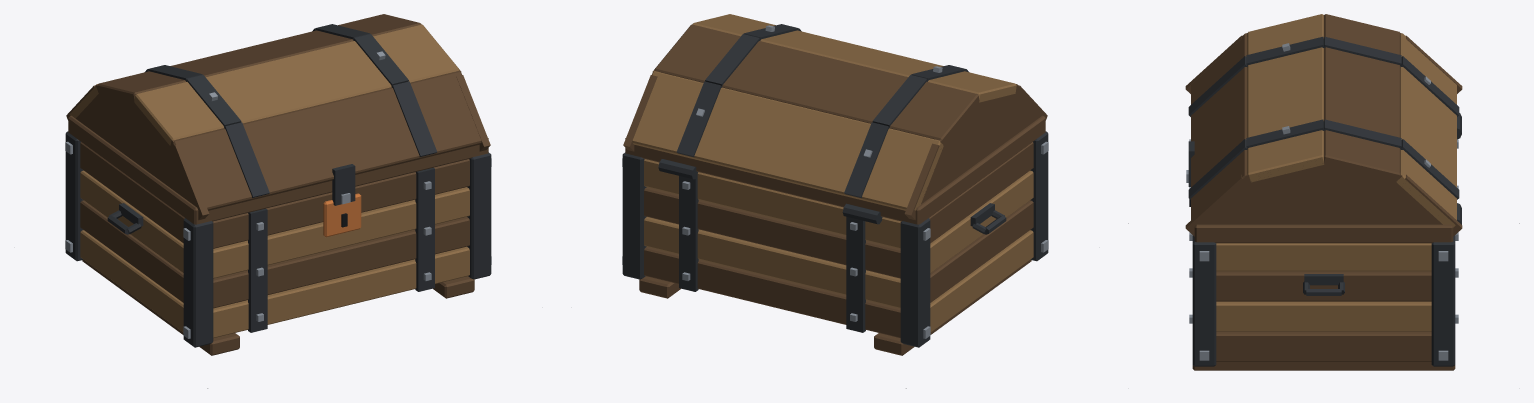
File: coffre_bois.glb
3 views of the same model, side by side, from view 1: azimuth 30°, elevation 25°; view 2: azimuth 150°, elevation 25°; view 3: azimuth 270°, elevation 25° (orthographic).
Visible parts, largest first — view 1: couvercle_bois_sombre.002, pieces_bois_sombre.002, pieces_bois.004, couvercle_bois.002, pieces_fonte.004, couvercle_fonte.004, pieces_cuivre.004, pieces_acier.004; view 2: couvercle_bois_sombre.002, couvercle_bois.002, pieces_bois_sombre.002, pieces_bois.004, pieces_fonte.004, couvercle_fonte.004, pieces_acier.004; view 3: couvercle_bois_sombre.002, couvercle_bois.002, pieces_bois_sombre.002, pieces_bois.004, pieces_fonte.004, couvercle_fonte.004, pieces_acier.004.
Boxes of the visible parts, x1,y1,x2,y2 form: couvercle_bois_sombre.002: (66,14,490,224); pieces_bois_sombre.002: (80,142,474,355); pieces_bois.004: (80,170,469,337); couvercle_bois.002: (69,24,459,145); pieces_fonte.004: (65,131,491,347); couvercle_fonte.004: (145,24,437,205); pieces_cuivre.004: (323,193,361,237); pieces_acier.004: (65,141,491,338); couvercle_bois_sombre.002: (623,24,1047,224); couvercle_bois.002: (632,14,1016,210); pieces_bois_sombre.002: (639,142,1033,355); pieces_bois.004: (644,159,1033,332); pieces_fonte.004: (622,131,1048,347); couvercle_fonte.004: (676,24,968,197); pieces_acier.004: (622,141,1048,338); couvercle_bois_sombre.002: (1185,14,1462,243); couvercle_bois.002: (1247,14,1456,227); pieces_bois_sombre.002: (1192,271,1455,370); pieces_bois.004: (1216,243,1431,331); pieces_fonte.004: (1192,113,1461,366); couvercle_fonte.004: (1188,36,1459,199); pieces_acier.004: (1189,139,1458,360).
Bounding box in the file's own units: 1 × 0.6309 × 1.
